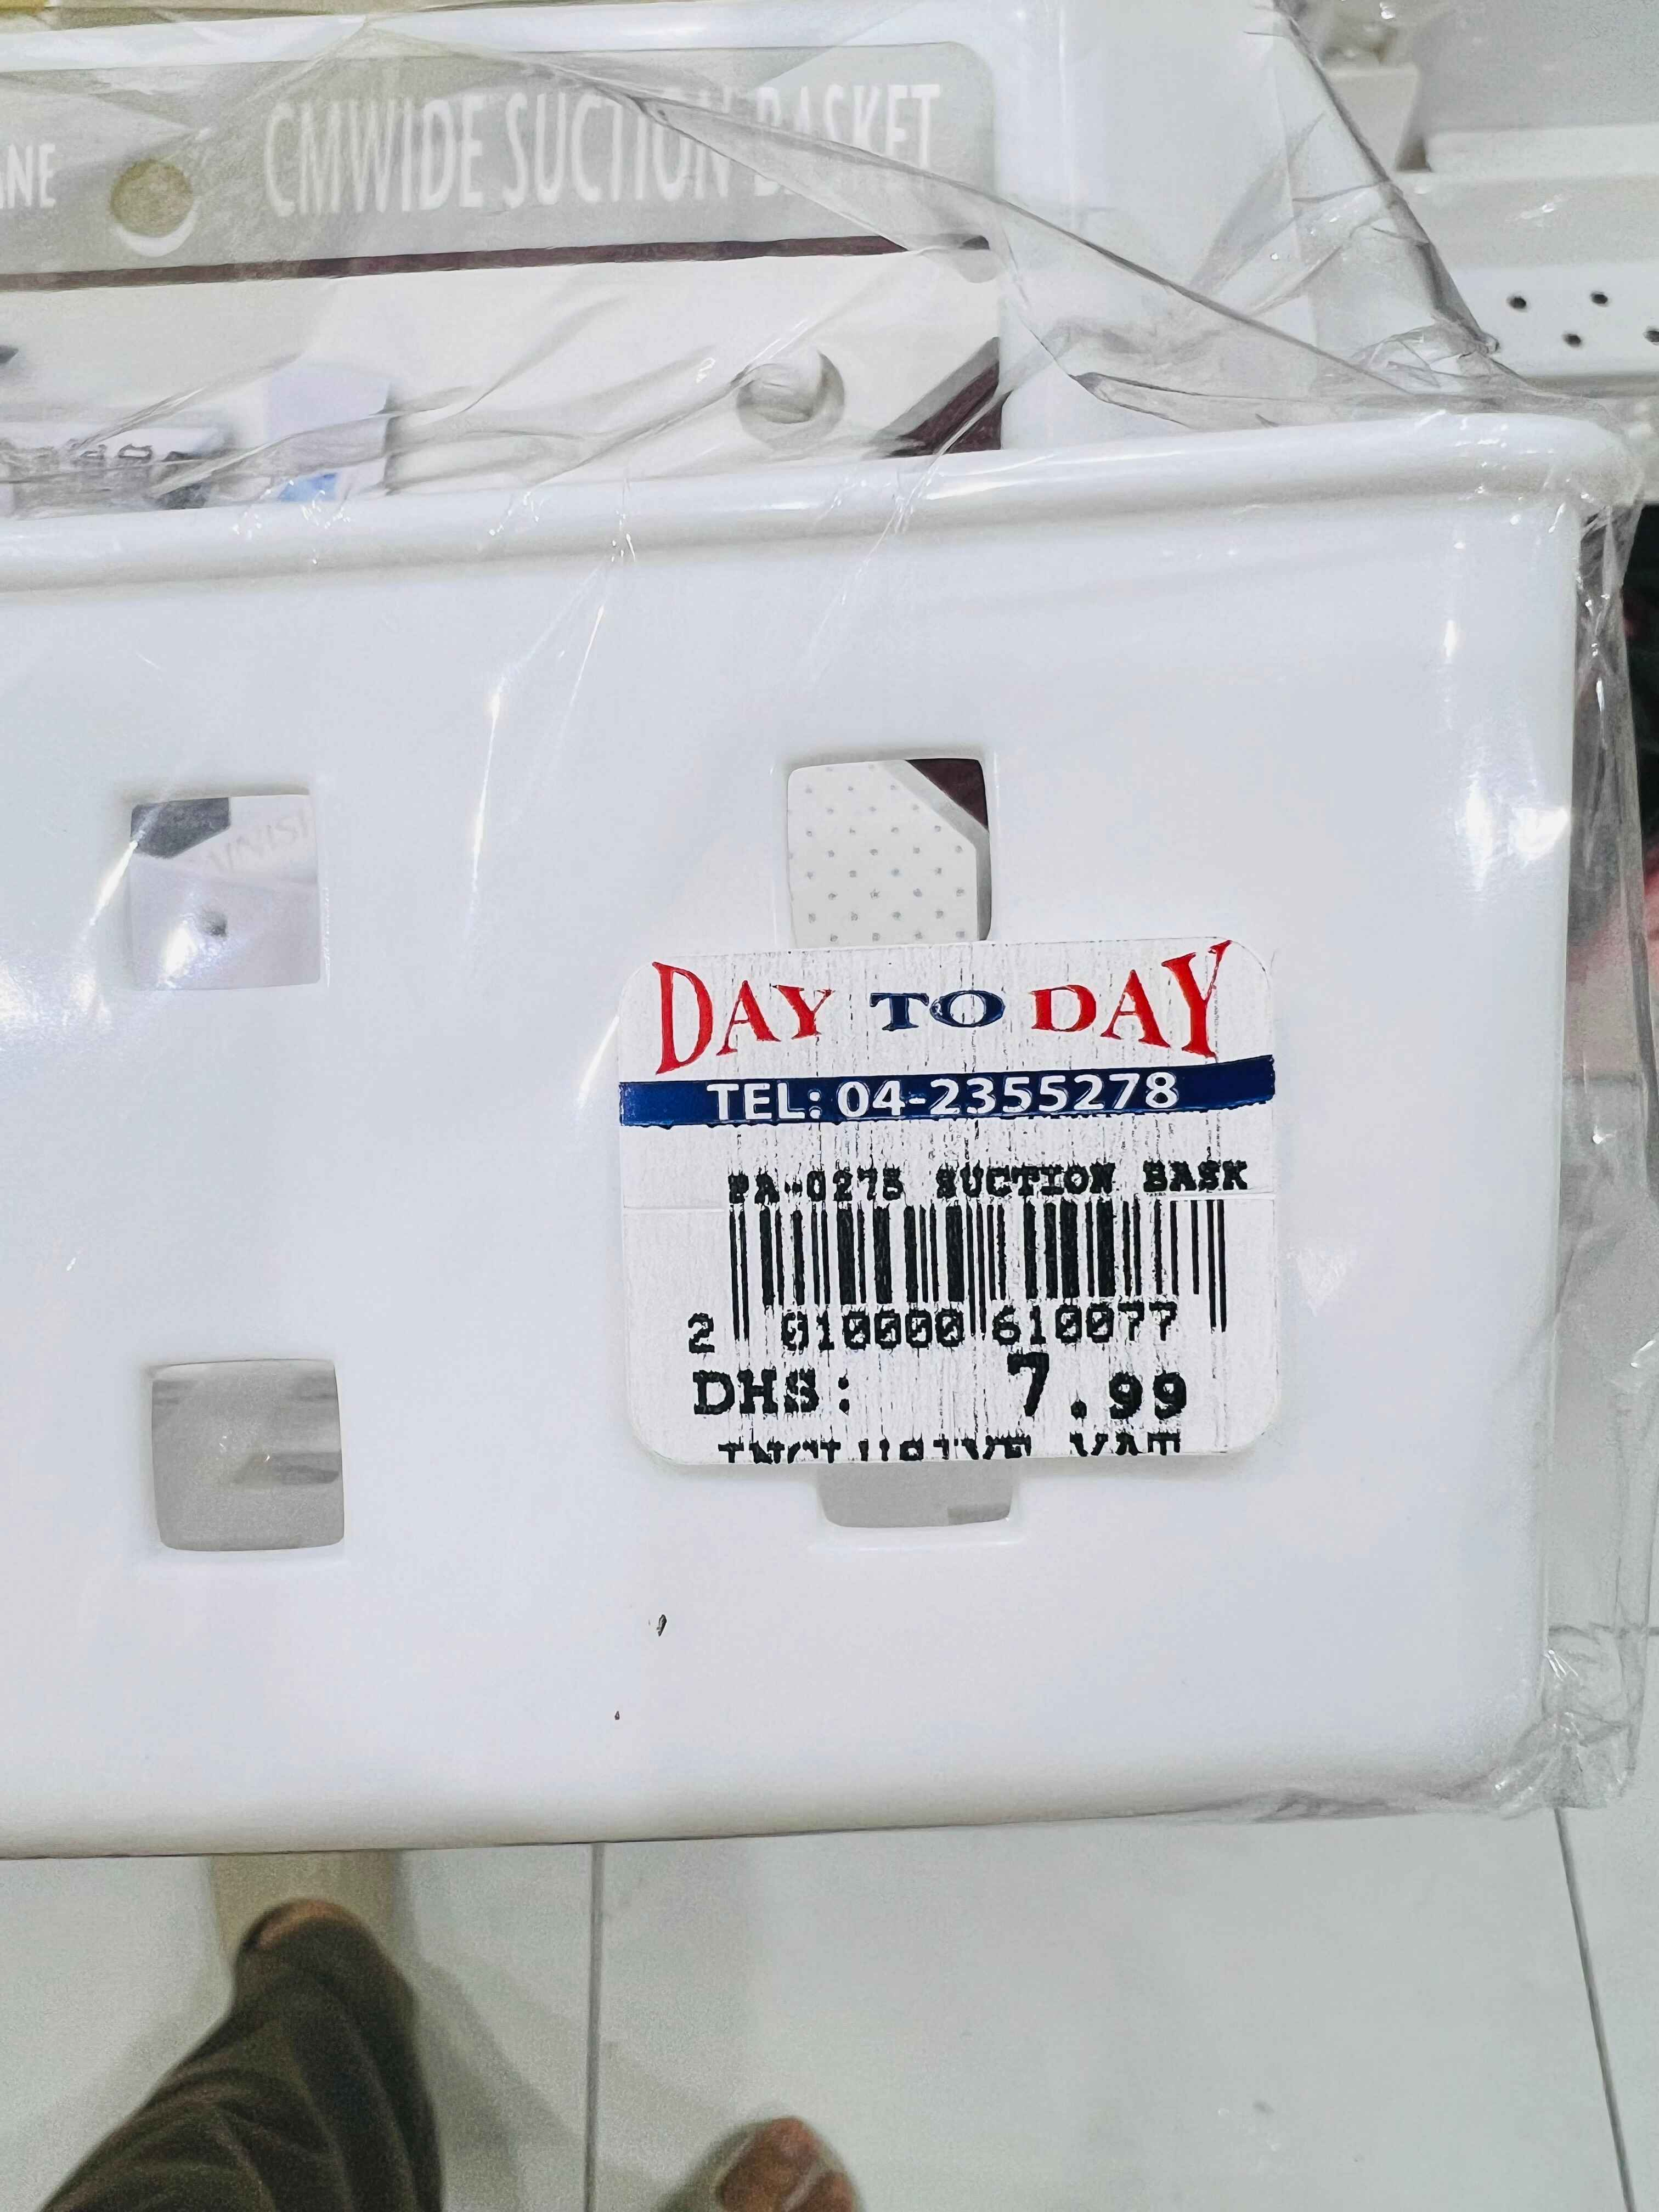PriceTagBig: (615, 942, 1309, 1487)
